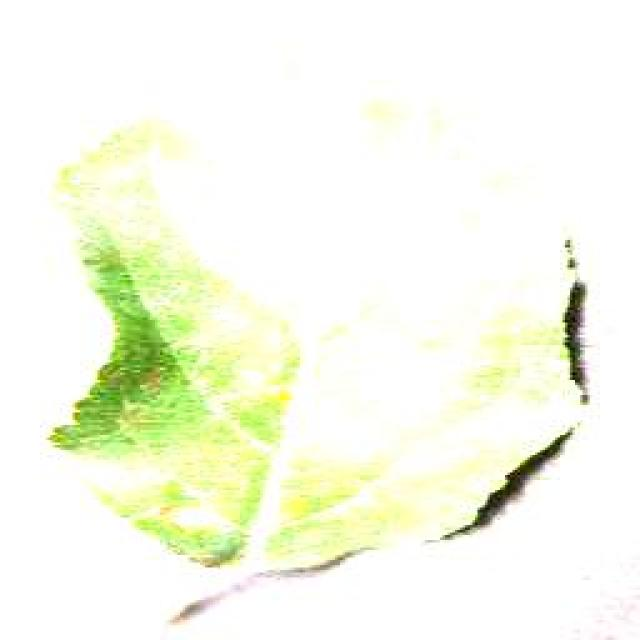apple scab disease: (42, 112, 592, 622)
